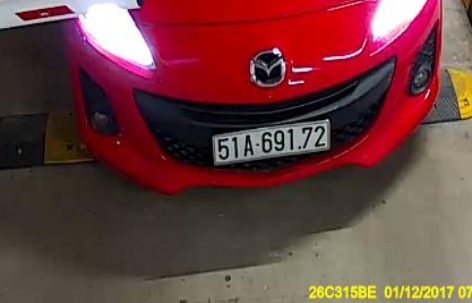plate: (208, 122, 334, 162)
